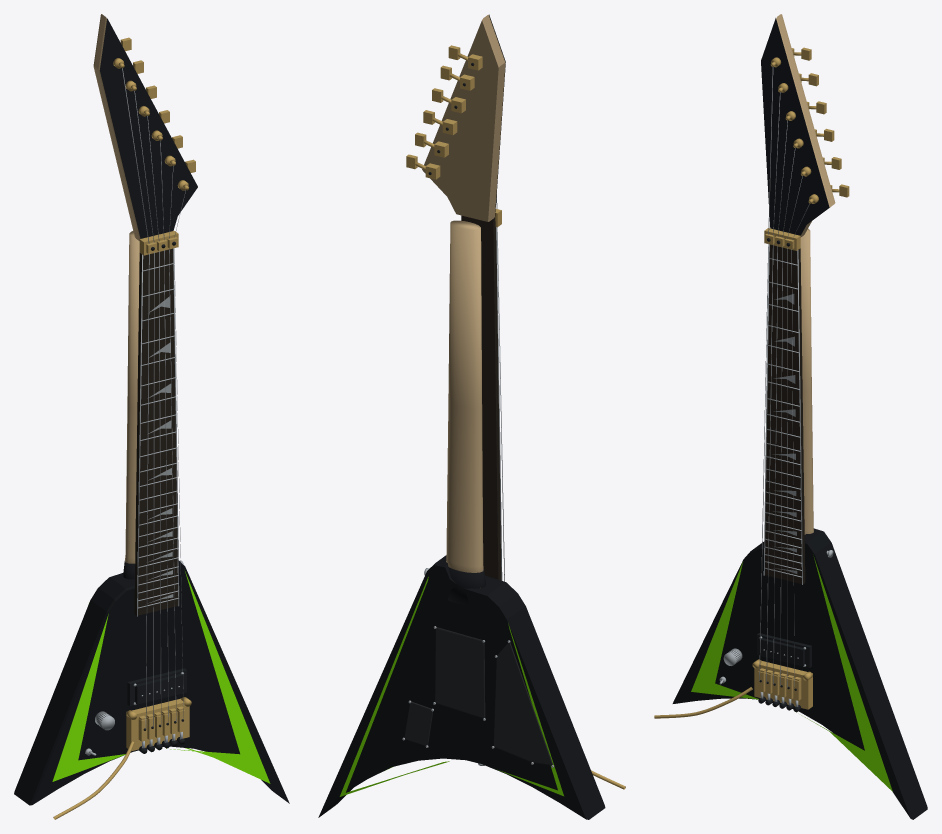
File: v-guitar-black-lime-unbranded-compact.glb
3 renders of one model, left to right at view 1: azimuth 30°, elevation 25°; view 2: azimuth 150°, elevation 25°; view 3: azimuth 330°, elevation 25°, orthographic. The views are drawn at different scales.
Visible parts, largest first — view 1: guitar_body, guitar_fretboard, guitar_headstock, guitar_hardware, guitar_lime_graphics, guitar_strings, guitar_neck; view 2: guitar_body, guitar_neck, guitar_rear_details, guitar_headstock, guitar_fretboard, guitar_hardware, guitar_lime_graphics; view 3: guitar_body, guitar_fretboard, guitar_headstock, guitar_hardware, guitar_lime_graphics, guitar_strings, guitar_neck.
Part boxes in pixels (bbox=[...]): guitar_body: bbox=[14, 560, 289, 805]; guitar_fretboard: bbox=[134, 248, 179, 616]; guitar_headstock: bbox=[93, 14, 197, 240]; guitar_hardware: bbox=[53, 37, 195, 819]; guitar_lime_graphics: bbox=[52, 571, 270, 783]; guitar_strings: bbox=[122, 68, 185, 728]; guitar_neck: bbox=[123, 231, 139, 579]; guitar_body: bbox=[318, 555, 605, 819]; guitar_neck: bbox=[446, 220, 485, 605]; guitar_rear_details: bbox=[402, 626, 554, 767]; guitar_headstock: bbox=[422, 14, 505, 221]; guitar_fretboard: bbox=[461, 215, 502, 580]; guitar_hardware: bbox=[406, 45, 625, 789]; guitar_lime_graphics: bbox=[339, 576, 564, 796]; guitar_body: bbox=[672, 528, 927, 819]; guitar_fretboard: bbox=[763, 244, 805, 584]; guitar_headstock: bbox=[761, 14, 835, 237]; guitar_hardware: bbox=[654, 47, 849, 718]; guitar_lime_graphics: bbox=[691, 556, 892, 791]; guitar_strings: bbox=[759, 67, 809, 687]; guitar_neck: bbox=[800, 228, 813, 534].
Size of the model in its own units: 0.3652 by 1.09 by 0.1211.
